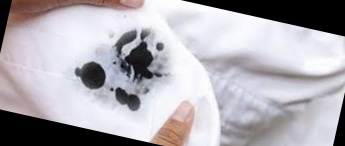ink: (125, 40, 158, 80), (76, 60, 109, 90), (113, 87, 142, 112), (119, 28, 136, 48)
